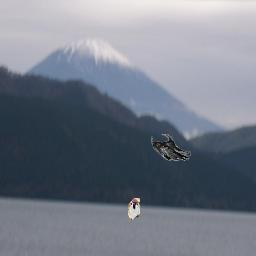Crow: (151, 134, 191, 161)
Sparrow: (128, 198, 140, 223)
